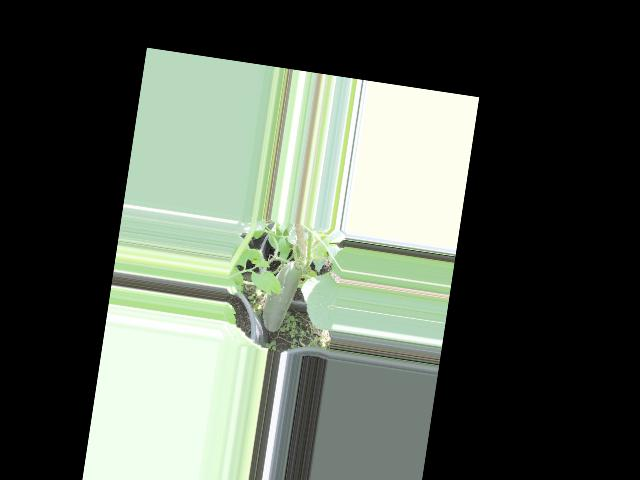cucumber: (260, 258, 303, 334)
